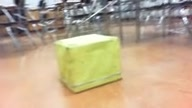cube: (54, 34, 120, 93)
